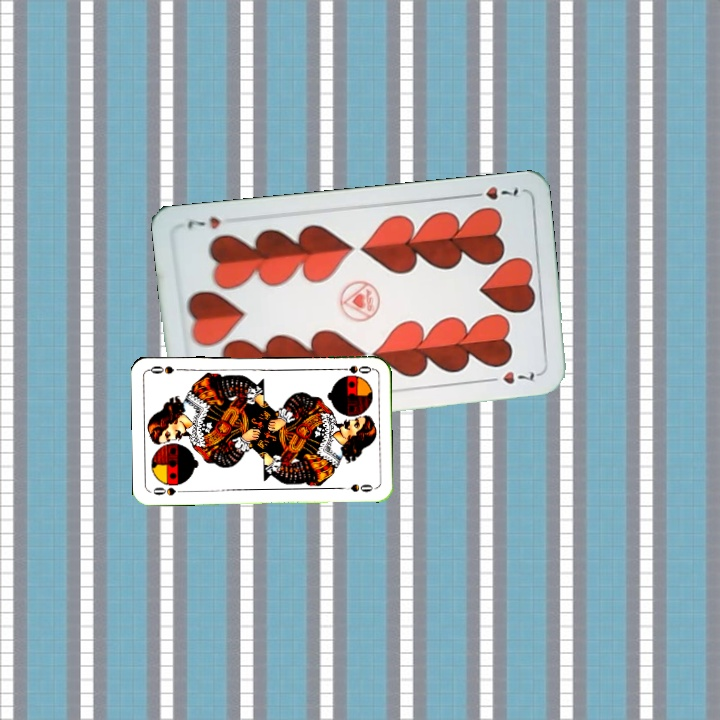H7: (464, 182, 522, 203)
SO: (334, 361, 375, 376), (147, 483, 188, 498)
